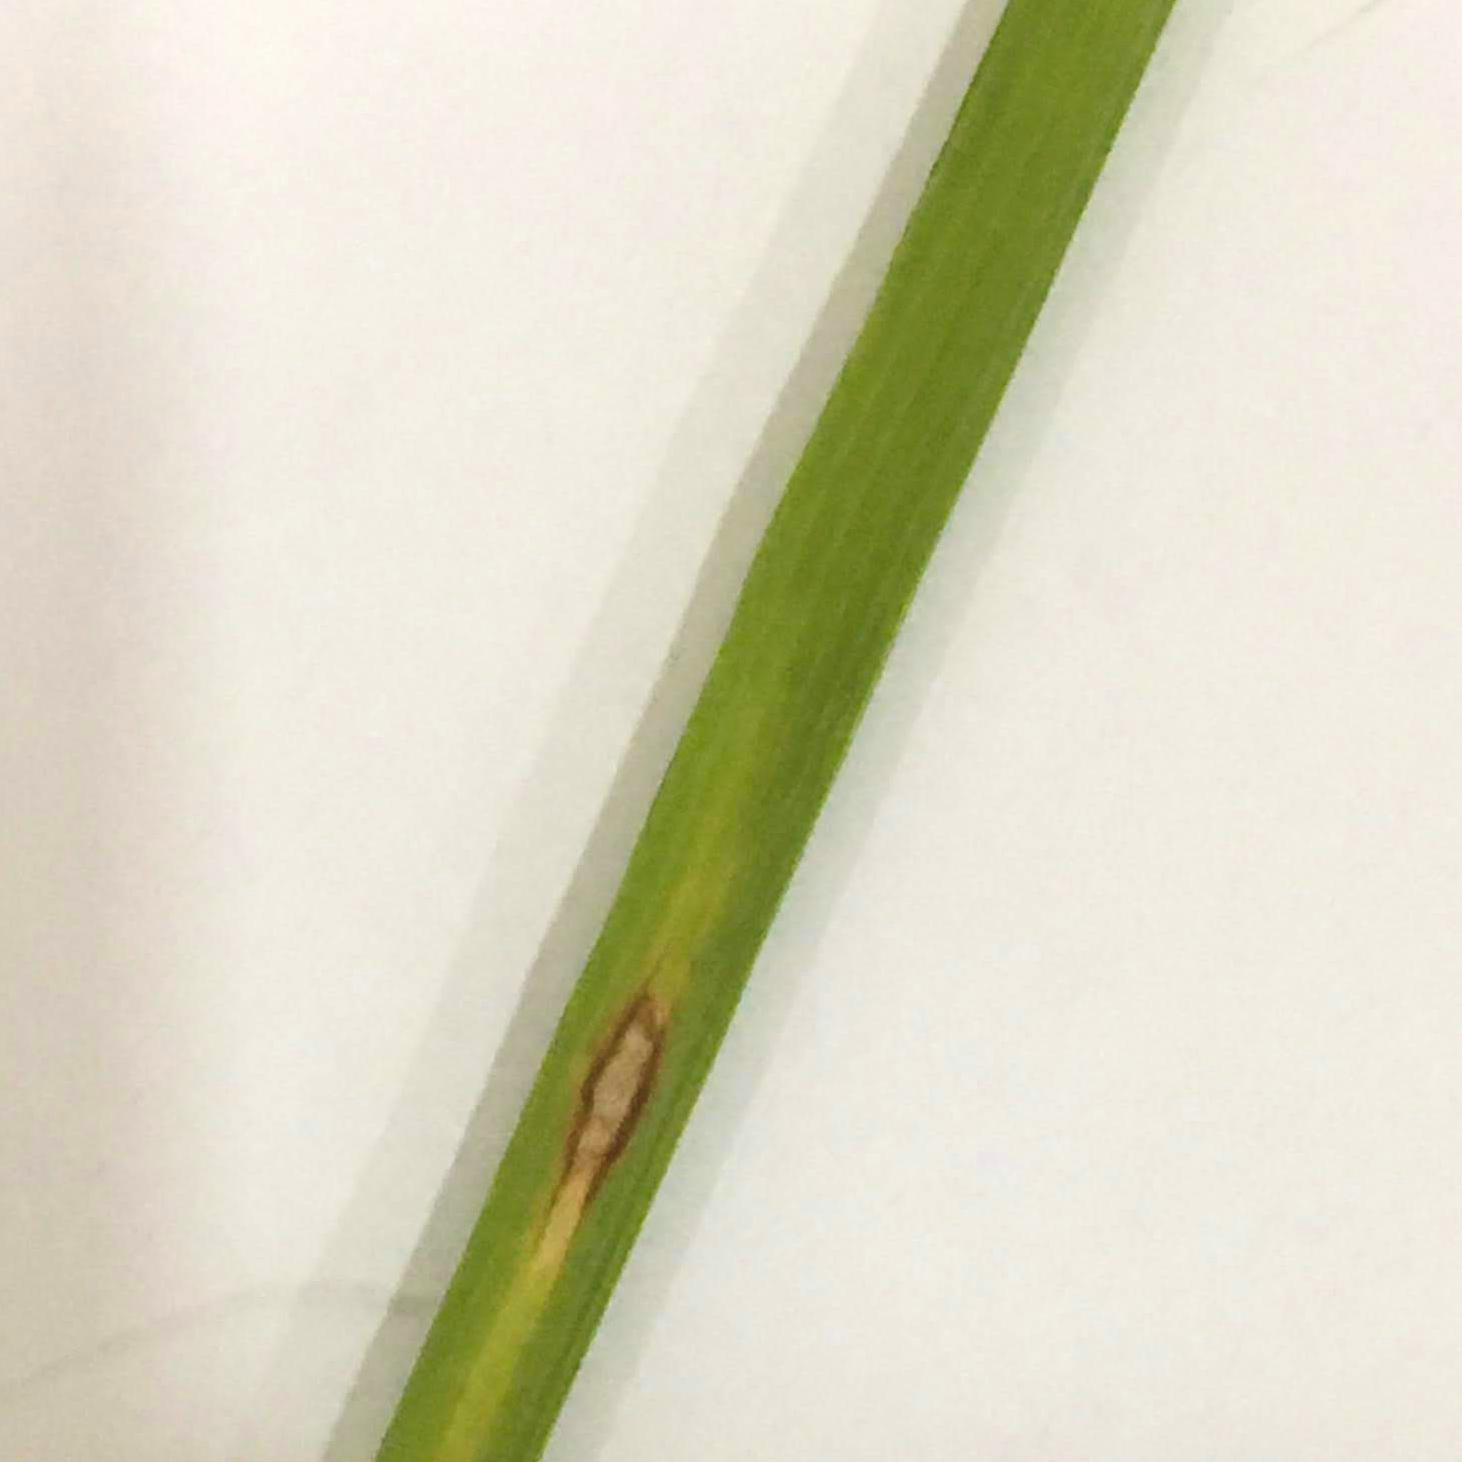1 RiceBlast: (534, 971, 688, 1218)
